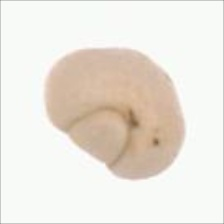L5: (42, 48, 187, 182), (64, 105, 134, 171), (137, 49, 177, 87)
